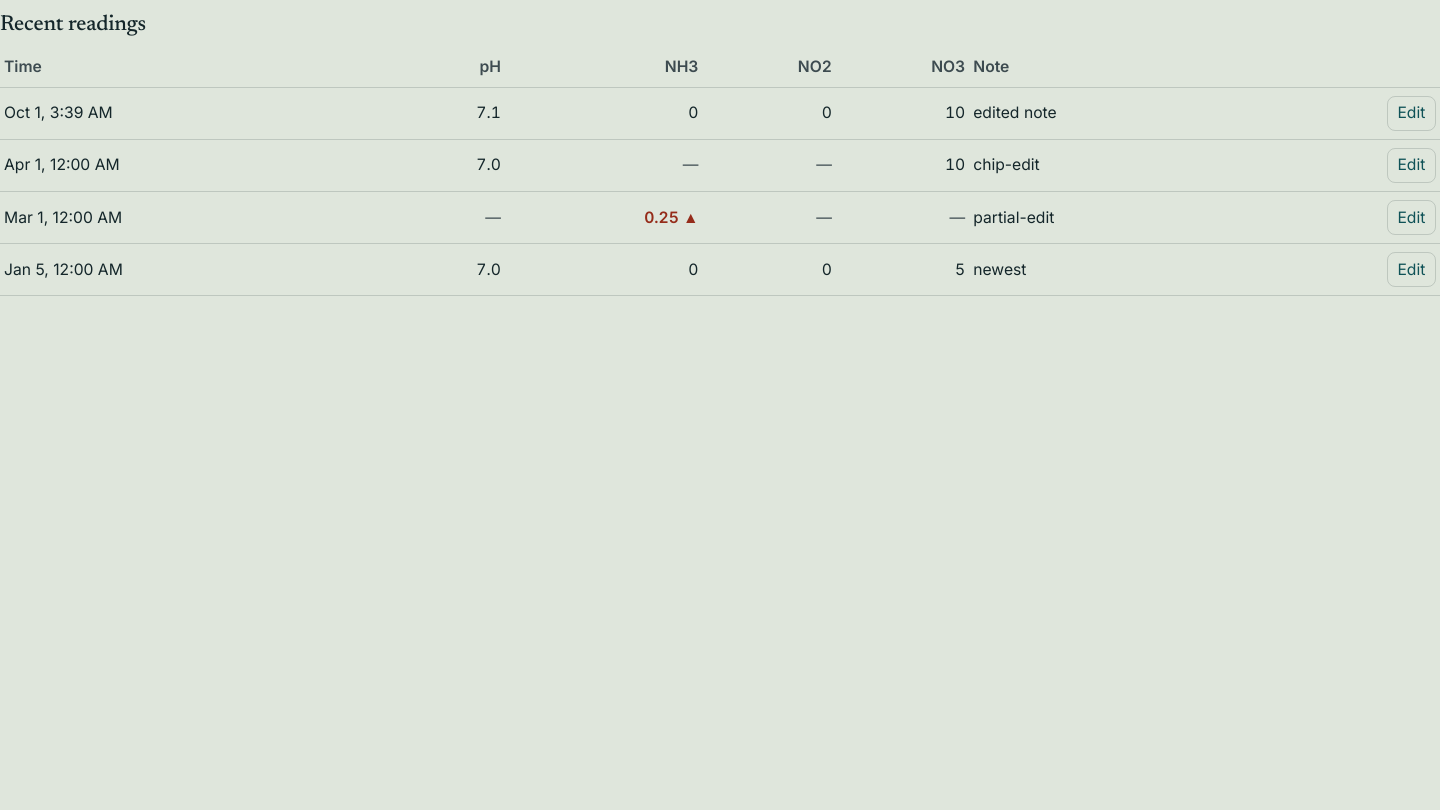
Test: ReadingList edit kit chips › sets and clears a metric from chips in the edit dialog
The image size is (1440, 810).
Step 1. Click the button "Edit" in the row of "Apr 1, 12:00 AM" → (1411, 165), box [1387,148,1436,183]
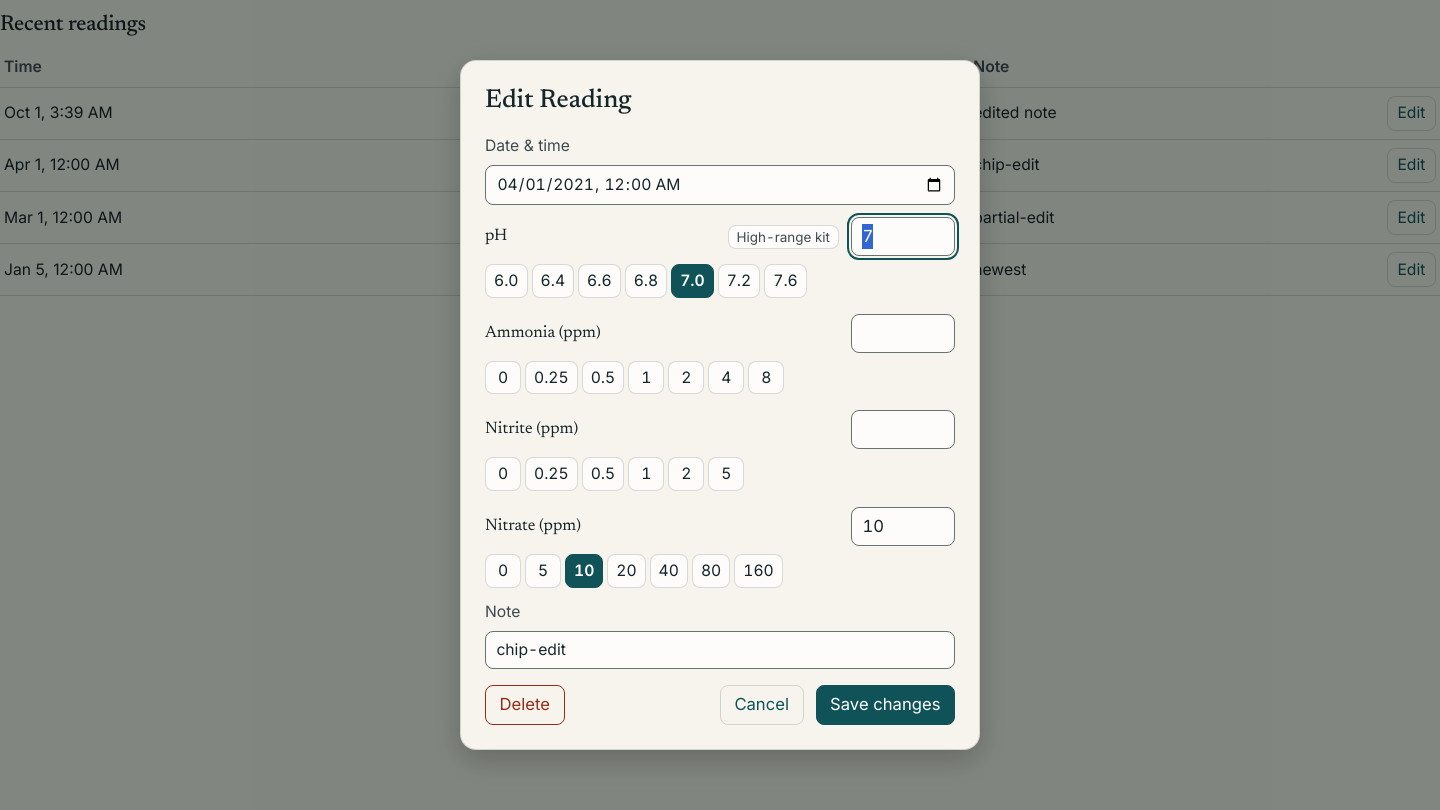
Step 2. Click the button named "NH3 1" → (646, 378), box [628,361,664,394]
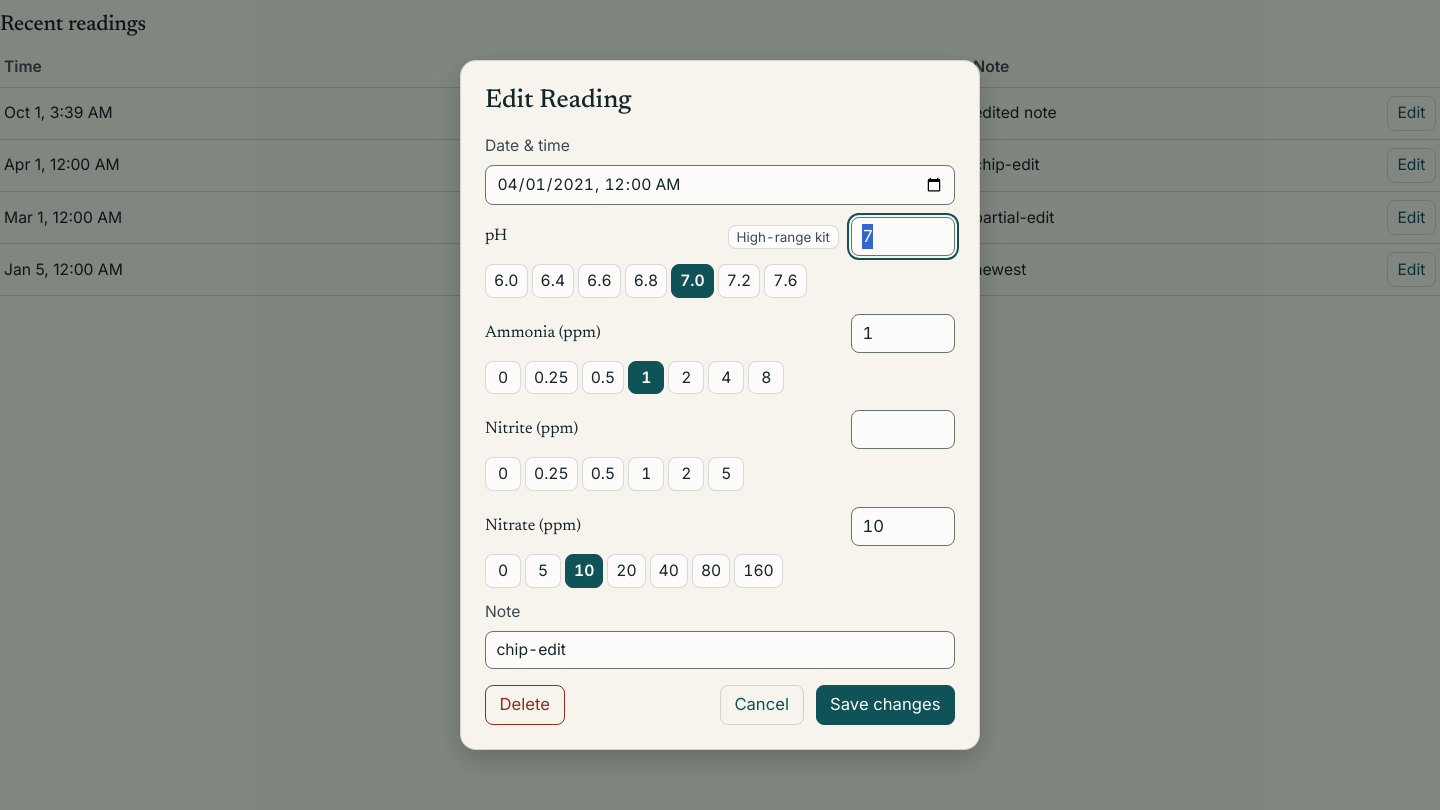
Step 3. Click the button named "NO3 10" → (584, 571), box [565,554,603,588]
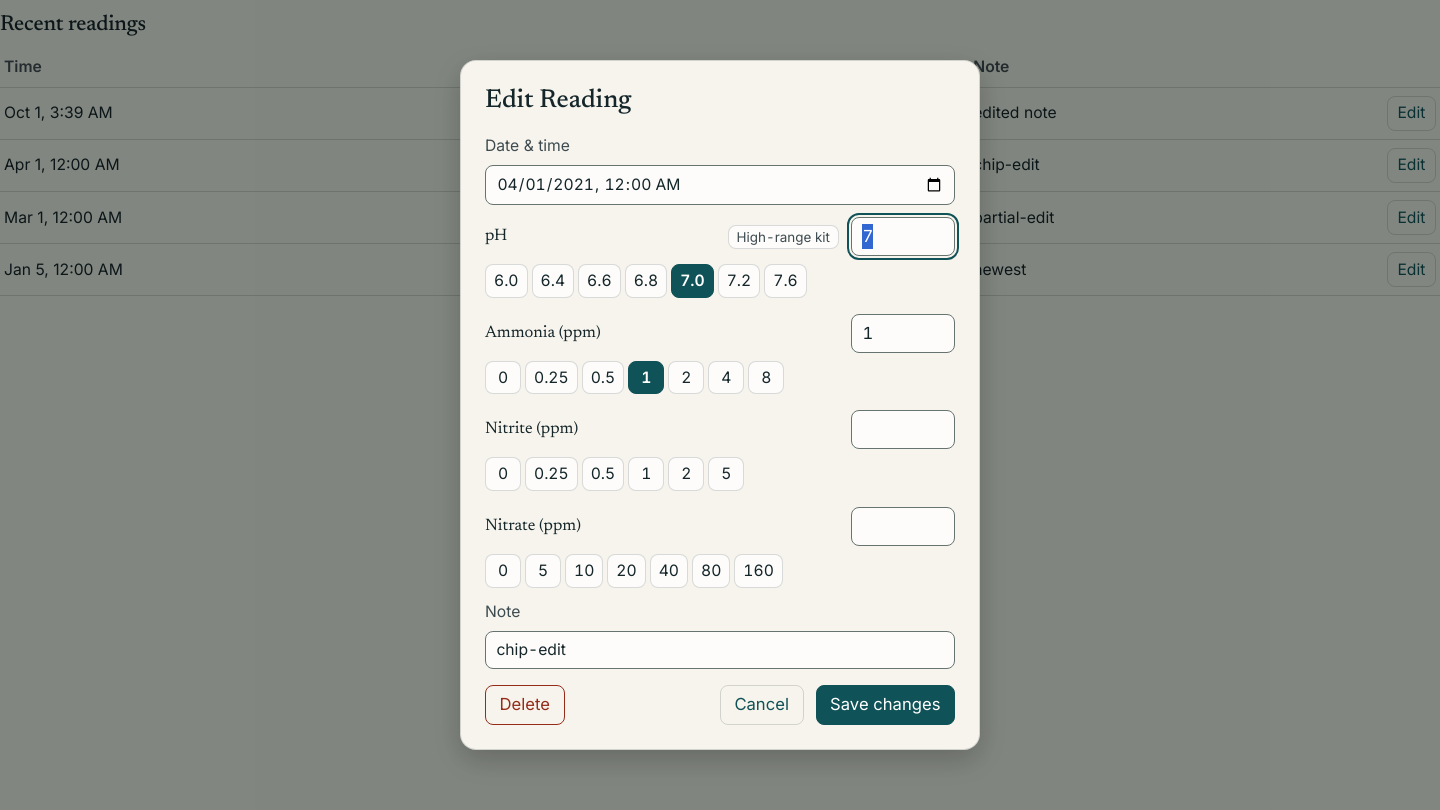
Step 4. Click the button "Save changes" → (885, 705), box [816,685,955,724]
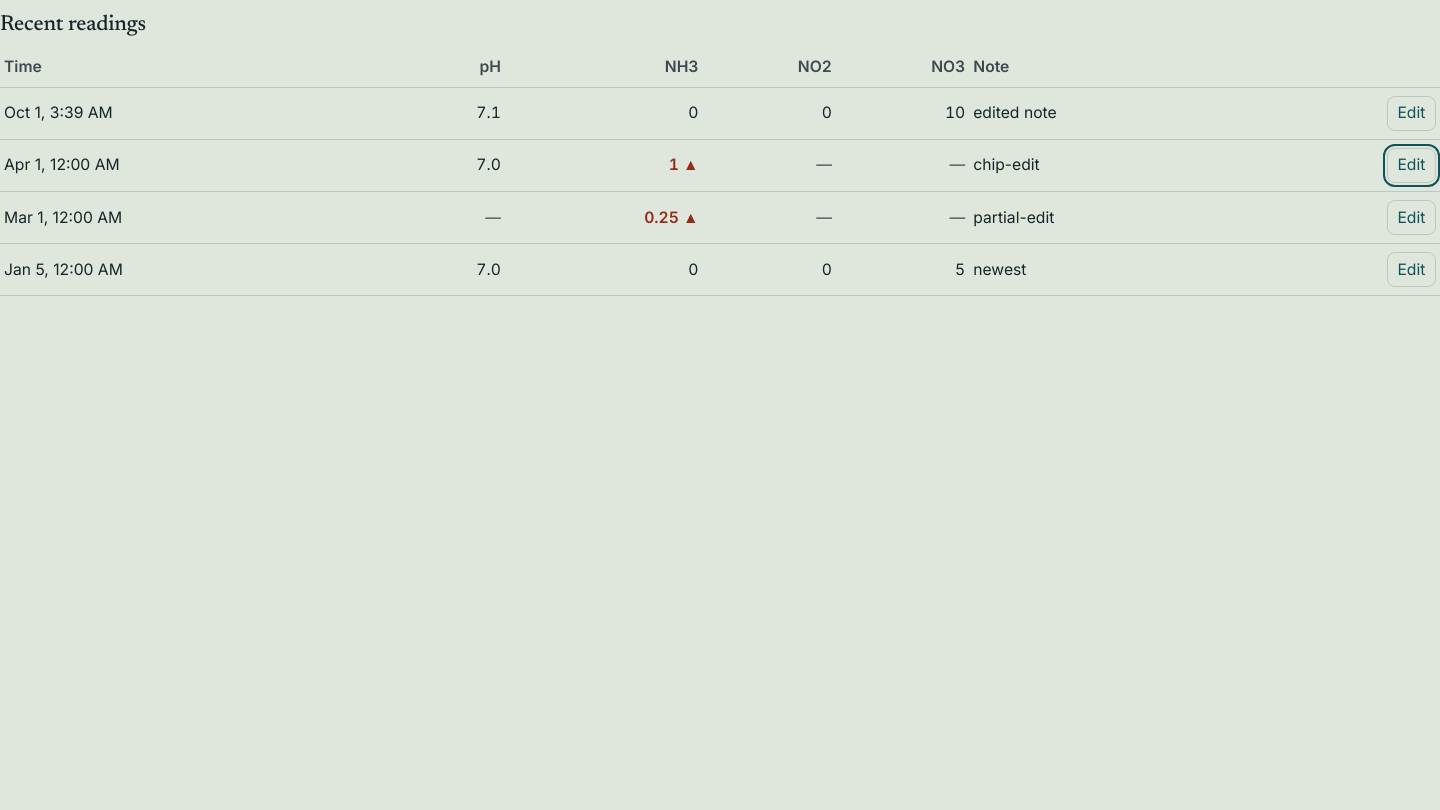
Check: the dialog is gone
